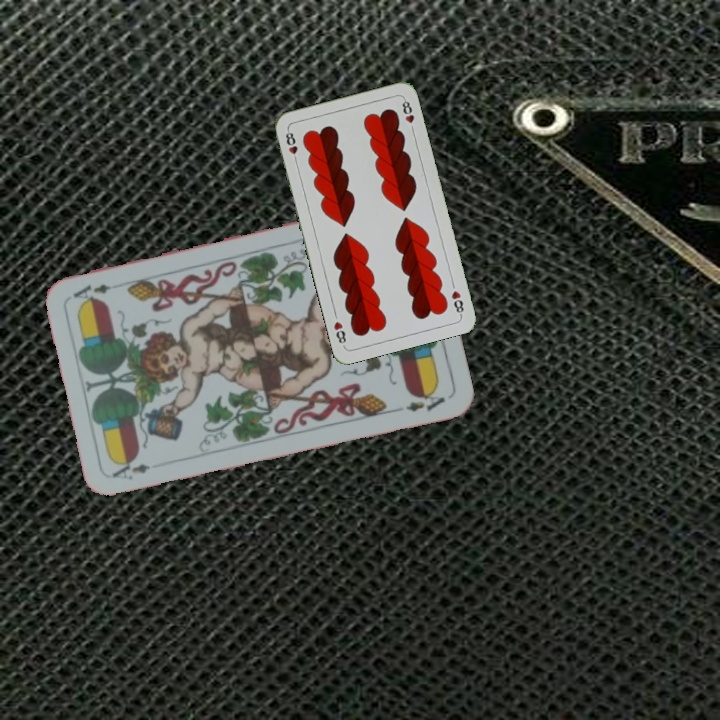EA: (108, 454, 153, 482)
H8: (281, 126, 300, 166), (447, 287, 466, 318)
